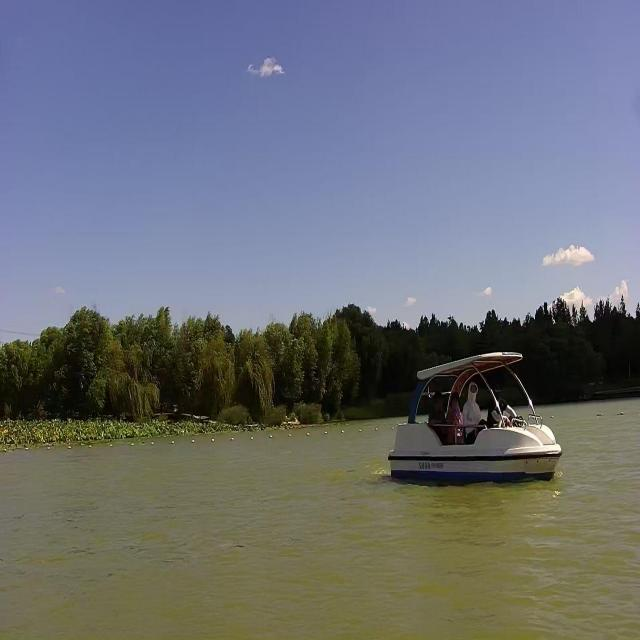CIV_Ship: (388, 352, 572, 497)
